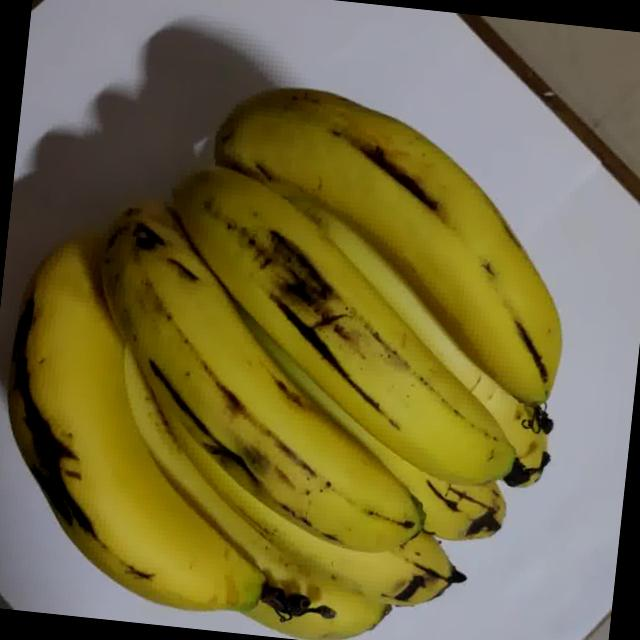banana_pacche: (0, 5, 637, 640)
